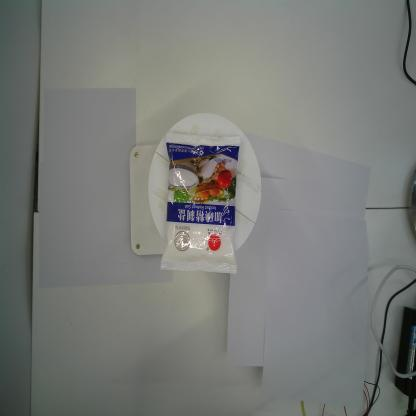Seasoner: (159, 132, 241, 274)
